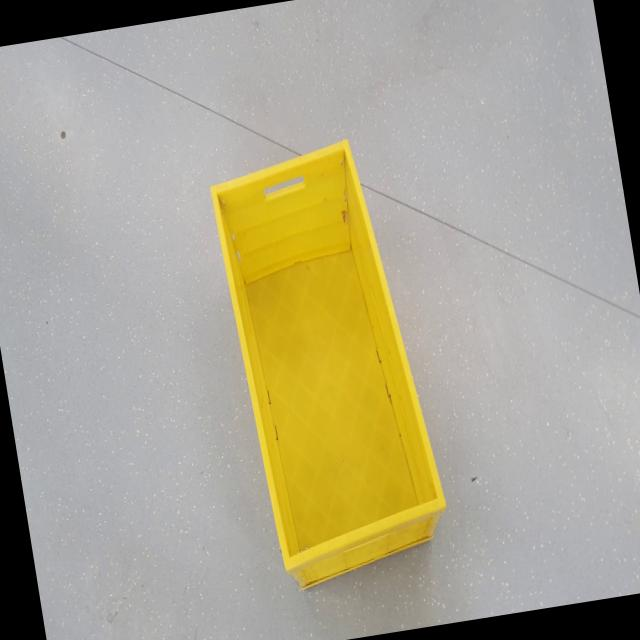box: (196, 122, 462, 608)
